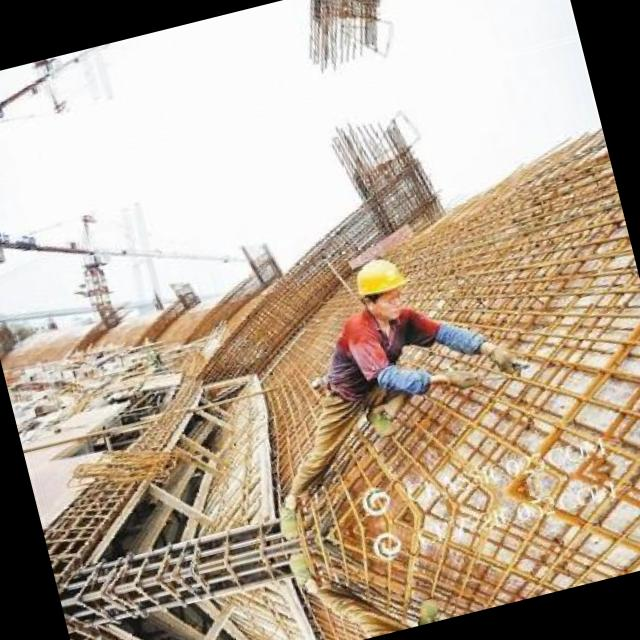helmet: (343, 246, 419, 325)
